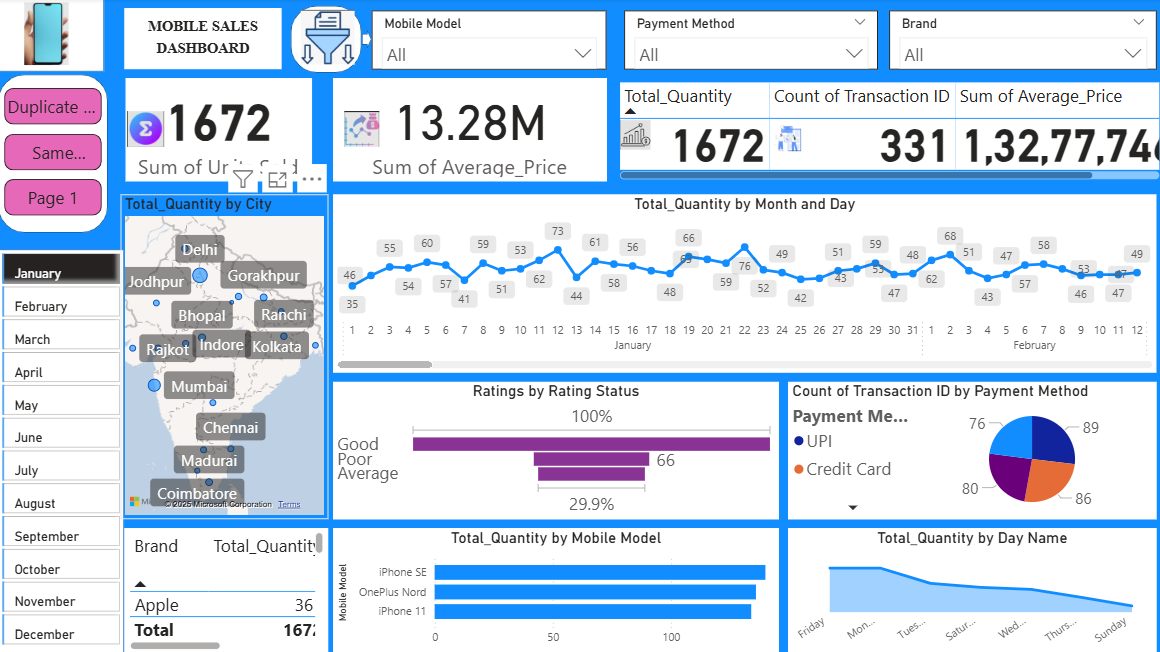

This screenshot's page, from the dashboard's own definition file:
{"tool":"powerbi","page":{"name":"Dashboard","canvas":[1280,720],"ordinal":0},"visuals":[{"type":"shape","box":[0,0,116.6,81],"z":0},{"type":"image","box":[0,0,107,78.2],"z":1000},{"type":"shape","box":[0,83.7,120.8,174.3],"z":2000},{"type":"shape","box":[0,275.8,138.6,444.6],"z":3000},{"type":"advancedSlicerVisual","fields":{"Values":["Custom_Calendor.Date.Variation.Date Hierarchy.Month"]},"box":[0,258,140,462.4],"z":4000},{"type":"card","fields":{"Values":["Sum(Sales Data.Units Sold)"]},"box":[134.5,87.8,209.9,113.9],"z":5000},{"type":"card","fields":{"Values":["Sum(Sales Data.Total_Sales)"]},"box":[367.8,87.8,300.5,113.9],"z":6000},{"type":"tableEx","fields":{"Values":["Sales Data.Total_Quantity","CountNonNull(Sales Data.Transaction ID)","Sum(Sales Data.Average_Price)"]},"box":[676.2,87.5,603.8,116.2],"z":7000},{"type":"image","box":[676.5,129,46.7,42.5],"z":8000},{"type":"image","box":[374.6,119.4,49.4,49.4],"z":9000},{"type":"image","box":[134.5,119.4,54.9,49.4],"z":10000},{"type":"image","box":[848,129,38.4,49.4],"z":11000},{"type":"slicer","fields":{"Values":["Sales Data.Mobile Model"]},"box":[410.3,13.7,229.2,64.5],"z":12000},{"type":"slicer","fields":{"Values":["Sales Data.Payment Method"]},"box":[657.3,13.7,229.2,64.5],"z":13000},{"type":"slicer","fields":{"Values":["Sales Data.Brand"]},"box":[933.1,13.7,229.2,64.5],"z":14000},{"type":"shape","box":[300.5,9.6,86.4,74.1],"z":15000},{"type":"image","box":[286.8,9.6,113.9,71.4],"z":16000},{"type":"shape","box":[387,32.9,23.3,27.4],"z":17000},{"type":"textbox","box":[140,13.7,150.9,64.5],"z":18000},{"type":"map","fields":{"Category":["Sales Data.City"],"Size":["Sales Data.Total_Quantity"]},"box":[134.5,215.4,227.8,356.8],"z":19000},{"type":"lineChart","fields":{"Y":["Sales Data.Total_Quantity"],"Category":["Custom_Calendor.Date.Variation.Date Hierarchy.Month","Custom_Calendor.Date.Variation.Date Hierarchy.Day"]},"box":[367.8,215.4,904.3,196.2],"z":20000},{"type":"funnel","title":" Ratings by Rating Status","fields":{"Y":["CountNonNull(Sales Data.Customer Ratings)"],"Category":["Sales Data.Rating Status"]},"box":[367.8,421.3,489.9,150.9],"z":21000},{"type":"pieChart","fields":{"Y":["CountNonNull(Sales Data.Transaction ID)"],"Category":["Sales Data.Payment Method"]},"box":[867.2,421.3,404.8,150.9],"z":22000},{"type":"clusteredBarChart","fields":{"Y":["Sales Data.Total_Quantity"],"Category":["Sales Data.Mobile Model"]},"box":[367.8,581.8,489.9,138.6],"z":23000},{"type":"areaChart","fields":{"Y":["Sales Data.Total_Quantity"],"Category":["Custom_Calendor.Day Name"]},"box":[867.2,581.8,404.8,138.6],"z":24000},{"type":"tableEx","fields":{"Values":["Sales Data.Brand","Sales Data.Total_Quantity","CountNonNull(Sales Data.Transaction ID)"]},"box":[138.6,581.8,223.7,138.6],"z":25000},{"type":"pageNavigator","box":[6.9,98.8,107,141.3],"z":26000}]}

Visuals, with their boxes on the page's 1280x720 design canvas (x1, y1, x2, y2). These are canvas units, not pixel positions in the 1160x652 screenshot, which may show the page scaled, cropped or inside an application window:
shape: left=0, top=0, right=117, bottom=81
image: left=0, top=0, right=107, bottom=78
shape: left=0, top=84, right=121, bottom=258
shape: left=0, top=276, right=139, bottom=720
advancedSlicerVisual - Custom_Calendor.Date.Variation.Date Hierarchy.Month: left=0, top=258, right=140, bottom=720
card - Sum(Sales Data.Units Sold): left=134, top=88, right=344, bottom=202
card - Sum(Sales Data.Total_Sales): left=368, top=88, right=668, bottom=202
tableEx - Sales Data.Total_Quantity x CountNonNull(Sales Data.Transaction ID): left=676, top=88, right=1280, bottom=204
image: left=676, top=129, right=723, bottom=172
image: left=375, top=119, right=424, bottom=169
image: left=134, top=119, right=189, bottom=169
image: left=848, top=129, right=886, bottom=178
slicer - Sales Data.Mobile Model: left=410, top=14, right=640, bottom=78
slicer - Sales Data.Payment Method: left=657, top=14, right=886, bottom=78
slicer - Sales Data.Brand: left=933, top=14, right=1162, bottom=78
shape: left=300, top=10, right=387, bottom=84
image: left=287, top=10, right=401, bottom=81
shape: left=387, top=33, right=410, bottom=60
textbox: left=140, top=14, right=291, bottom=78
map - Sales Data.City x Sales Data.Total_Quantity: left=134, top=215, right=362, bottom=572
lineChart - Sales Data.Total_Quantity x Custom_Calendor.Date.Variation.Date Hierarchy.Month: left=368, top=215, right=1272, bottom=412
" Ratings by Rating Status" funnel: left=368, top=421, right=858, bottom=572
pieChart - CountNonNull(Sales Data.Transaction ID) x Sales Data.Payment Method: left=867, top=421, right=1272, bottom=572
clusteredBarChart - Sales Data.Total_Quantity x Sales Data.Mobile Model: left=368, top=582, right=858, bottom=720
areaChart - Sales Data.Total_Quantity x Custom_Calendor.Day Name: left=867, top=582, right=1272, bottom=720
tableEx - Sales Data.Brand x Sales Data.Total_Quantity: left=139, top=582, right=362, bottom=720
pageNavigator: left=7, top=99, right=114, bottom=240
